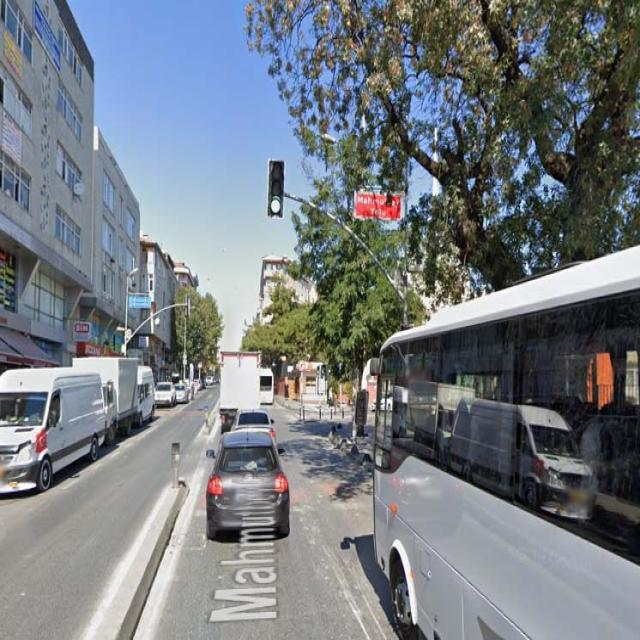yesil: (268, 158, 284, 219)
